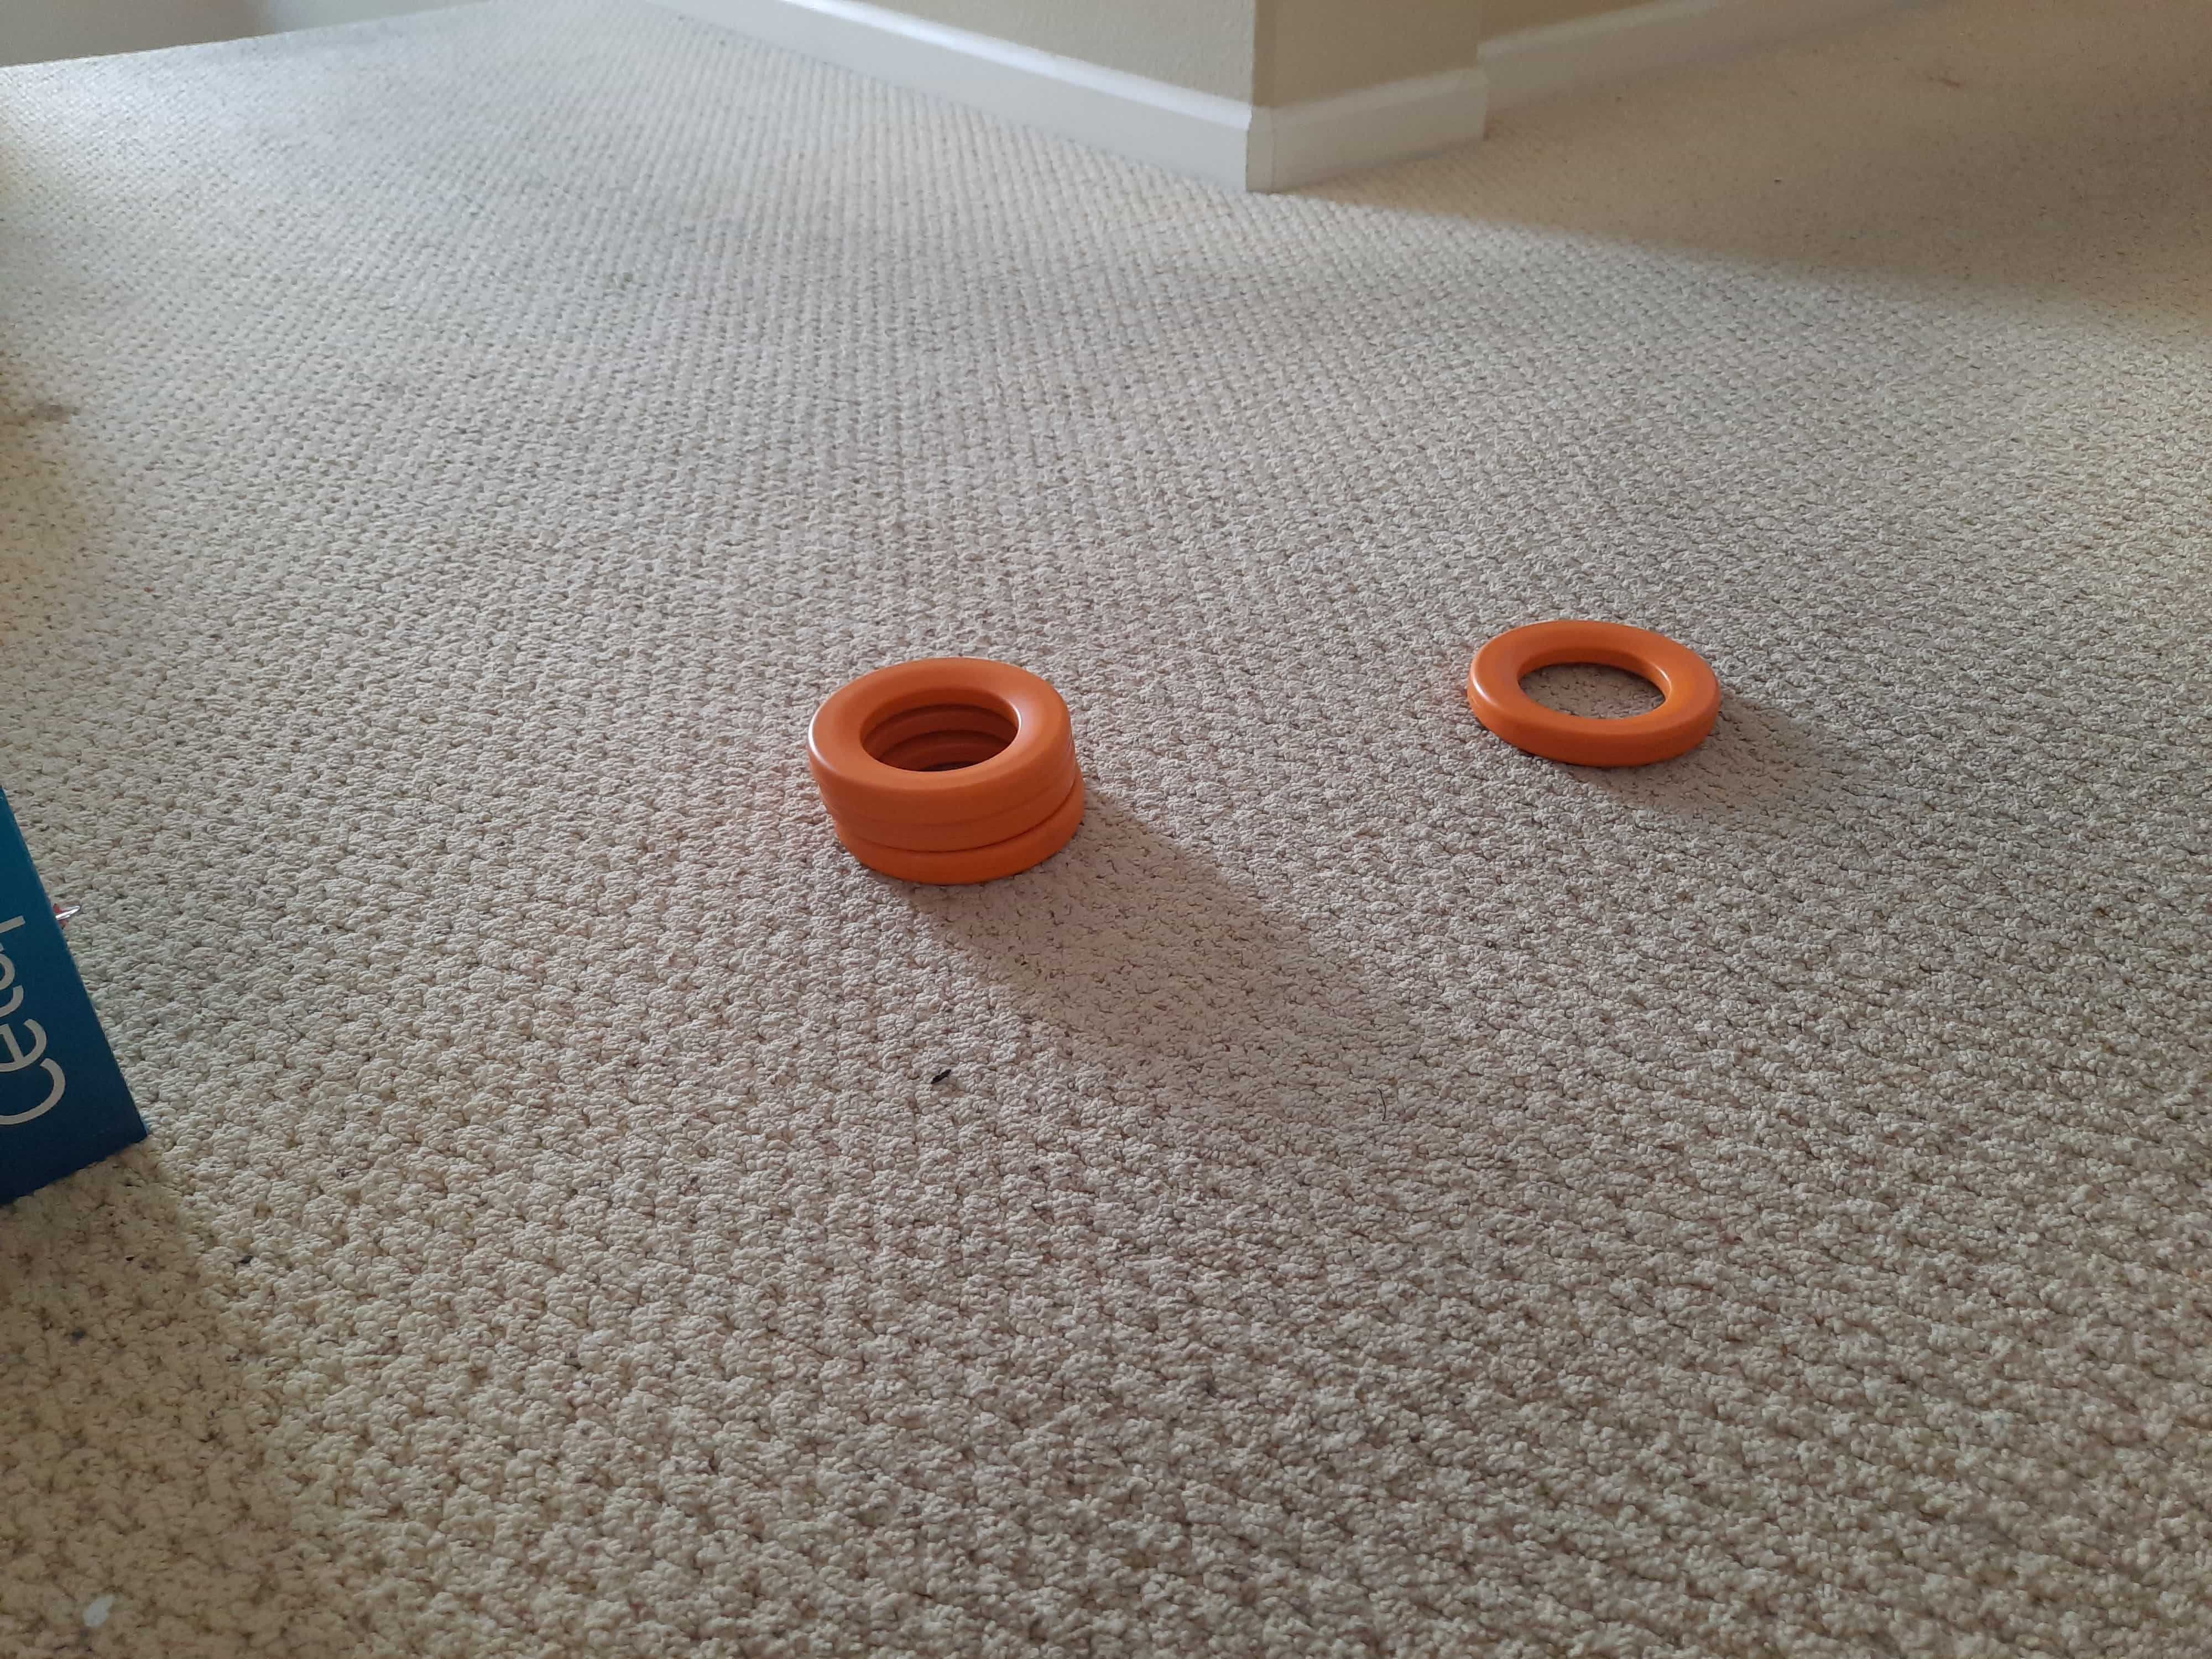FourStack: (810, 662, 1089, 882)
OneStack: (1468, 617, 1719, 765)
